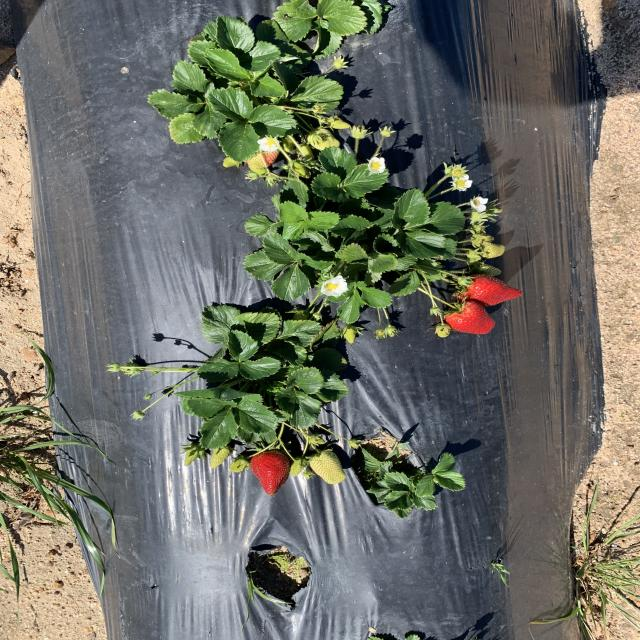unripe: (462, 274, 526, 306), (250, 451, 293, 496), (441, 302, 495, 334)
